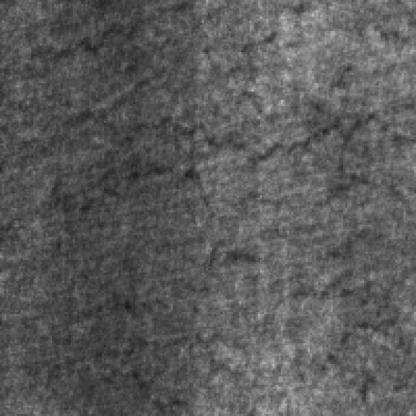crazing: (39, 102, 402, 210), (218, 225, 404, 389)
